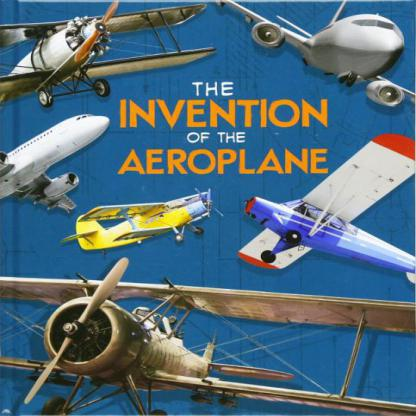CIV_Plane: (0, 268, 415, 413), (236, 132, 416, 285), (0, 0, 209, 105), (221, 0, 414, 104), (72, 184, 212, 258), (3, 110, 102, 214)
